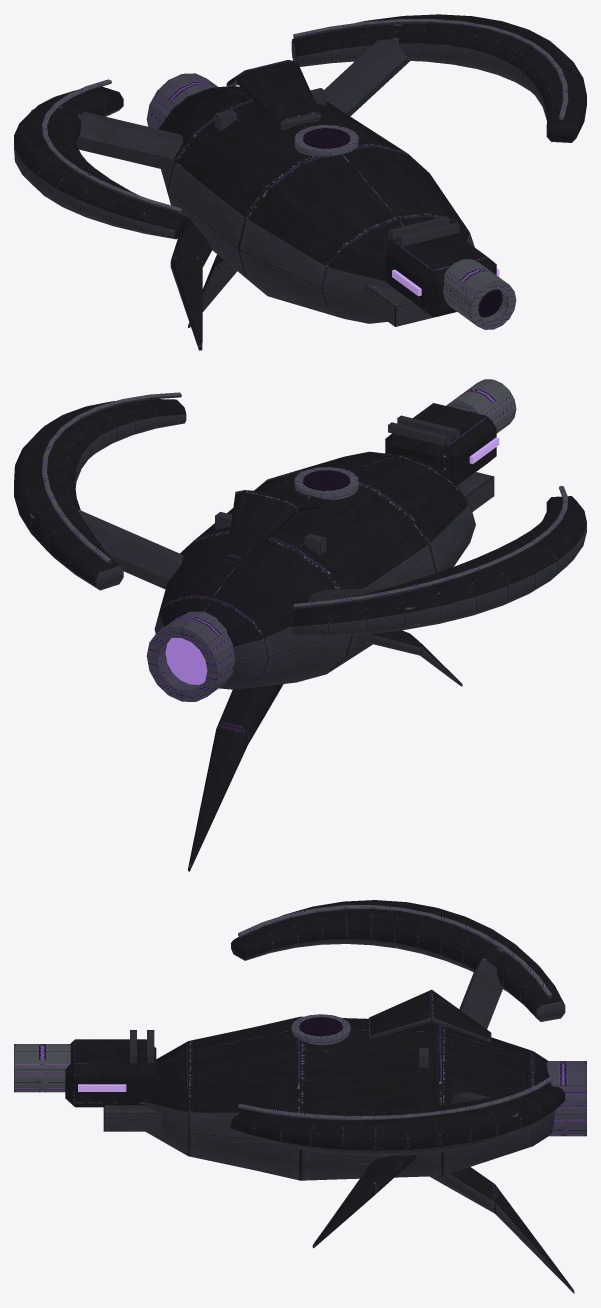
The model's file is pioneer-eris-l06-laser.glb.
The picture shows the model from 3 angles, top to bottom: view 1: azimuth 30°, elevation 25°; view 2: azimuth 150°, elevation 25°; view 3: azimuth 270°, elevation 25°; orthographic projection. The views are drawn at different scales.
Visible parts, largest first — view 1: Drone; view 2: Drone; view 3: Drone.
Part boxes in pixels (x1,y1,x2,y2): Drone: [14, 14, 586, 350]; Drone: [14, 379, 586, 871]; Drone: [14, 900, 586, 1293].
Size of the model in its own units: 1.4 by 0.82 by 1.45.
3 materials, 3 textured.
